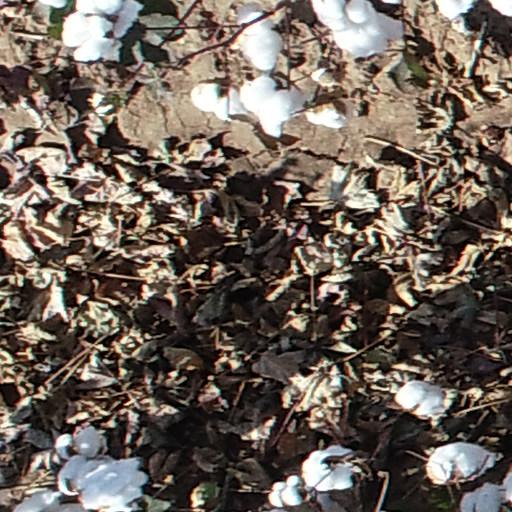Boll: (241, 76, 304, 139), (80, 458, 148, 512), (426, 441, 501, 483), (235, 4, 281, 72), (333, 13, 403, 57), (300, 443, 357, 490), (60, 14, 116, 59), (77, 1, 142, 36), (54, 454, 111, 493), (191, 81, 245, 120), (397, 379, 441, 416), (312, 1, 372, 27), (52, 427, 99, 457), (306, 97, 350, 129), (459, 483, 501, 512), (269, 473, 304, 507), (12, 489, 63, 512), (311, 68, 340, 90), (440, 1, 477, 16)
